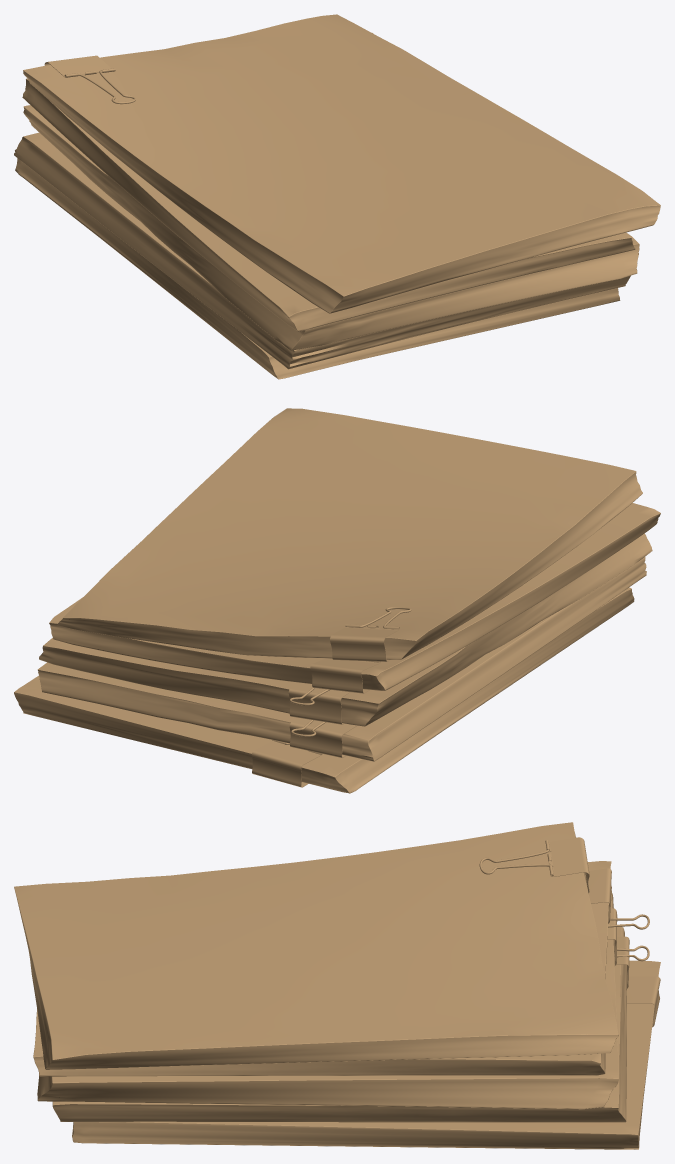
Rendered from paper_stack_a04.glb.
3 views of the same model, one above another, from view 1: azimuth 30°, elevation 25°; view 2: azimuth 150°, elevation 25°; view 3: azimuth 270°, elevation 25° (orthographic). The views are drawn at different scales.
Size of the model in its own units: 0.2397 by 0.0833 by 0.3399.
